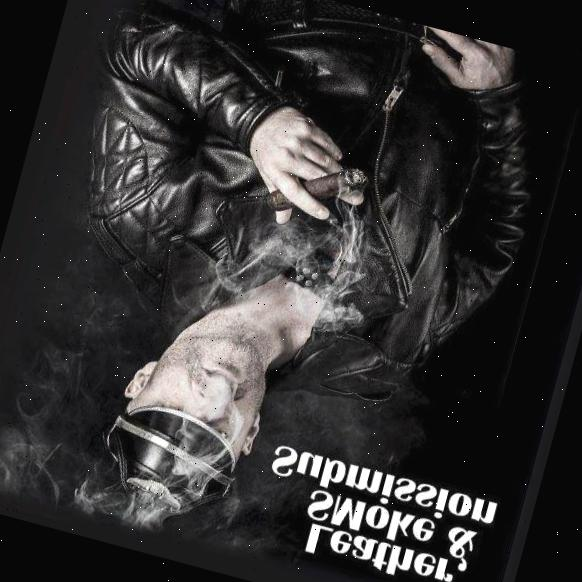smoke: (126, 342, 286, 551)
